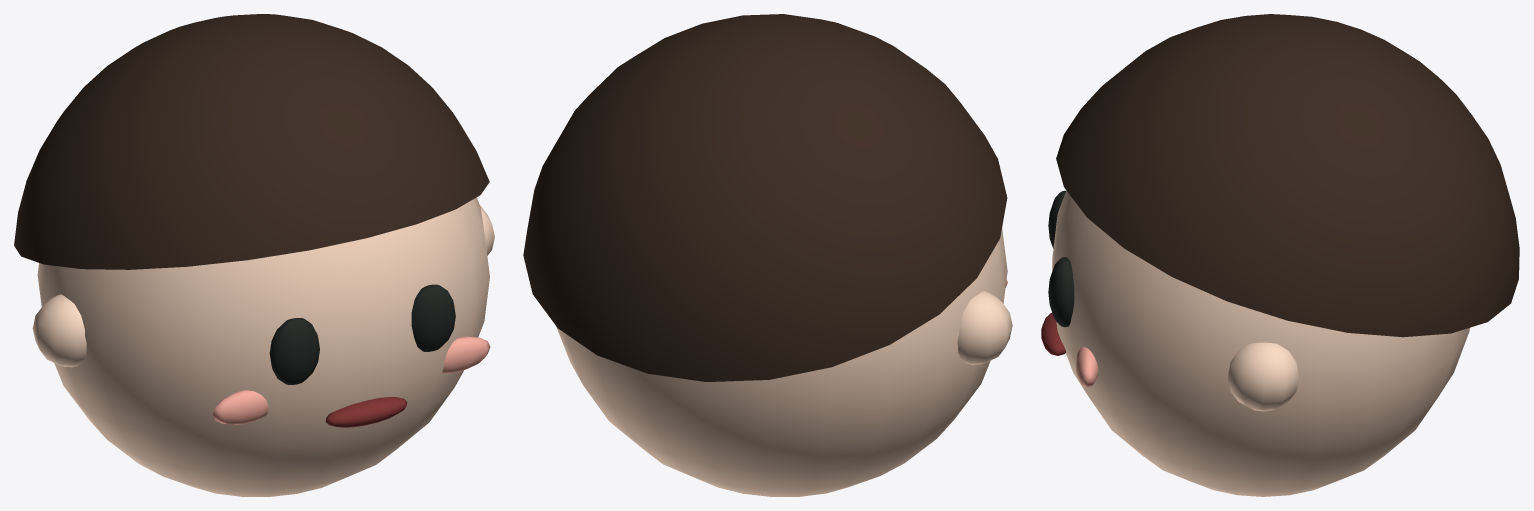
3 views of the same model, side by side, from view 1: azimuth 30°, elevation 25°; view 2: azimuth 150°, elevation 25°; view 3: azimuth 270°, elevation 25° (orthographic).
Parts seen in each view (by area): view 1: hair, face, ear-1, eyeL, eyeR, mouth, cheekL, cheekR; view 2: hair, face, ear-1; view 3: hair, face, ear1, eyeR, cheekR, mouth.
Part boxes in pixels (x1,y1,x2,y2): hair: (14,14,489,269); face: (37,197,489,496); ear-1: (32,294,86,367); eyeL: (269,318,319,384); eyeR: (411,284,455,351); mouth: (325,396,407,427); cheekL: (212,390,268,424); cheekR: (442,336,490,373); hair: (523,14,1007,381); face: (556,228,1007,496); ear-1: (957,291,1012,364); hair: (1056,14,1519,337); face: (1052,190,1469,496); ear1: (1228,342,1299,411); eyeR: (1048,257,1074,327); cheekR: (1076,346,1098,387); mouth: (1041,312,1065,355).
Size of the model in its own units: 1.4 by 1.29 by 1.28.
